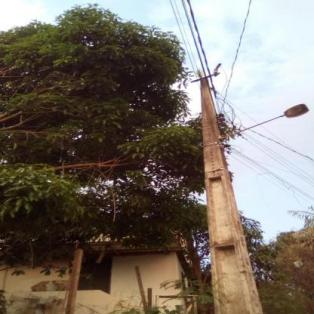Poste: (186, 72, 278, 314)
